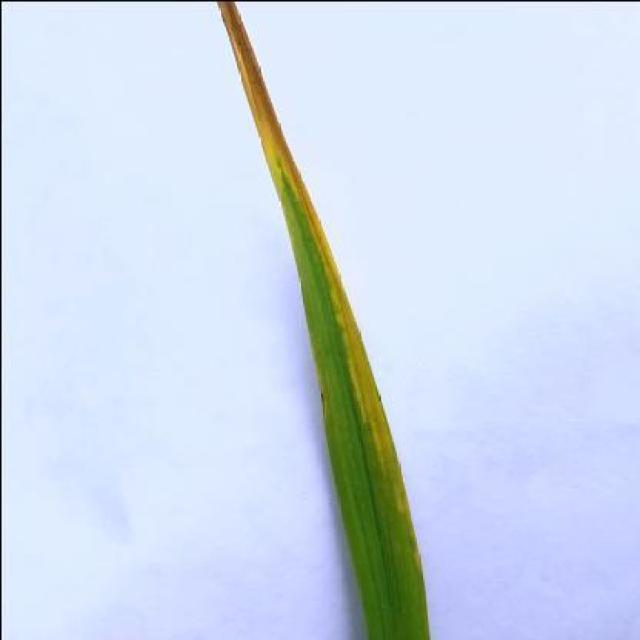Rice False Smut: (208, 0, 429, 640)
